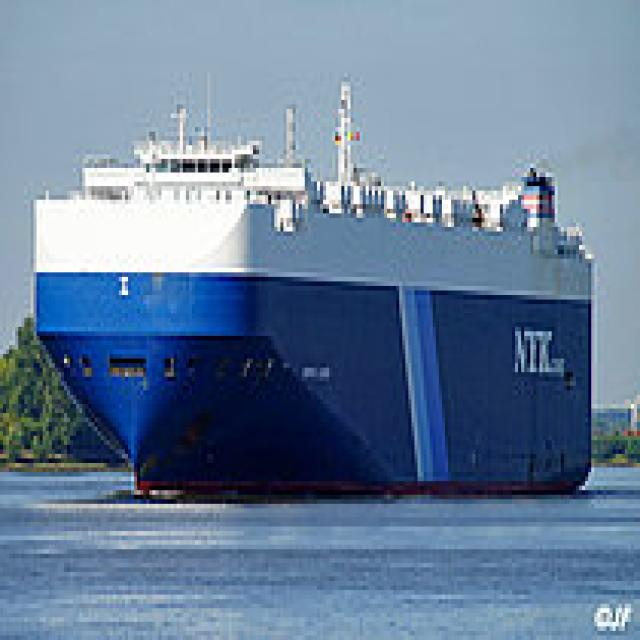Carrier: (28, 64, 594, 499)
